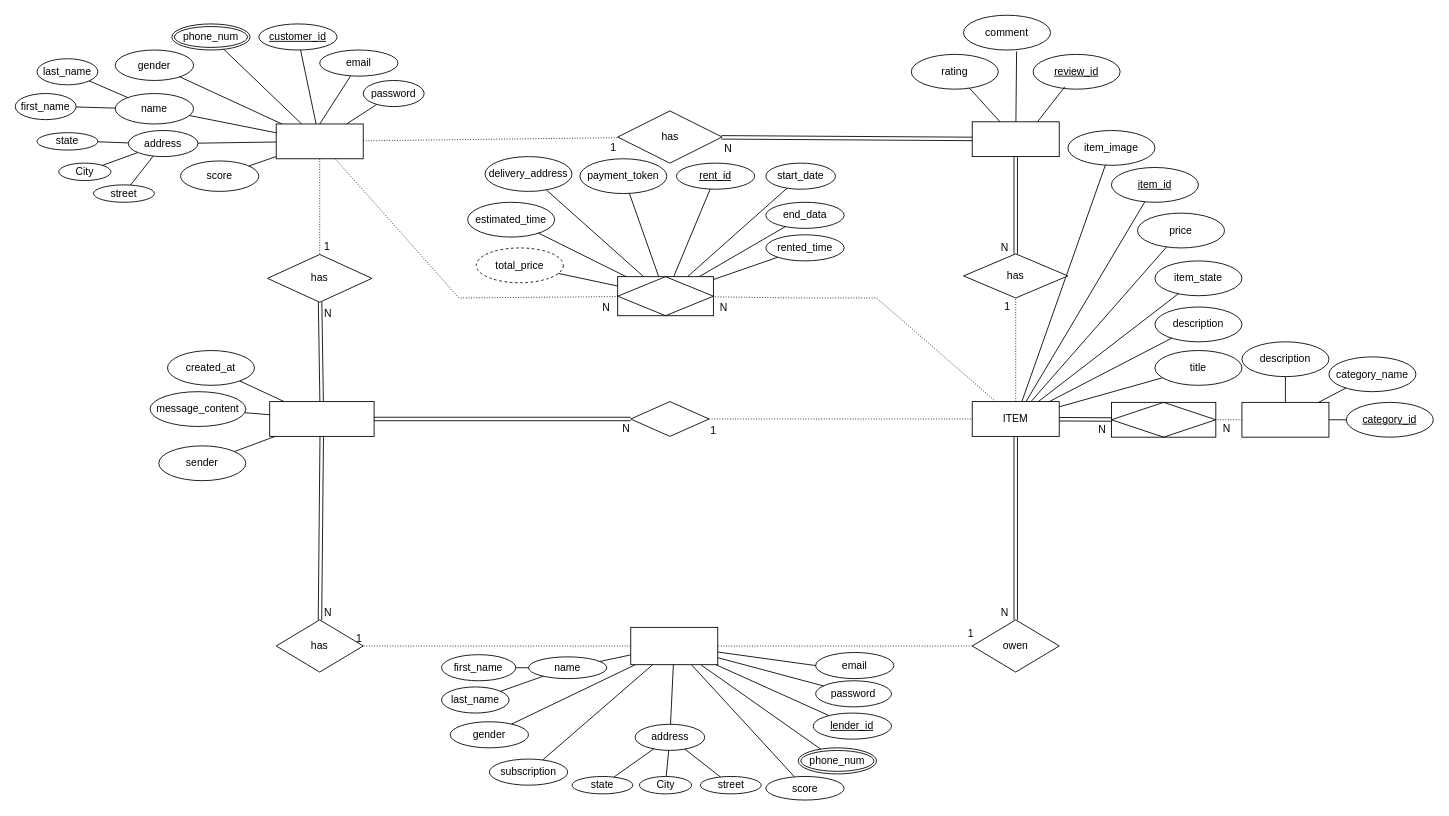
Image size: 1449x816. Some labels were removed from this diagram. Here are the shapes that lost their labels. From the top down, the centre of each, then its label:
At pixel 319 141: "customer".
At pixel 1015 139: "REVIEW".
At pixel 665 296: "rent".
At pixel 321 418: "CHAT".
At pixel 669 418: "for".
At pixel 1163 419: "item_category".
At pixel 1285 419: "CATEGORY".
At pixel 674 645: "lender".
